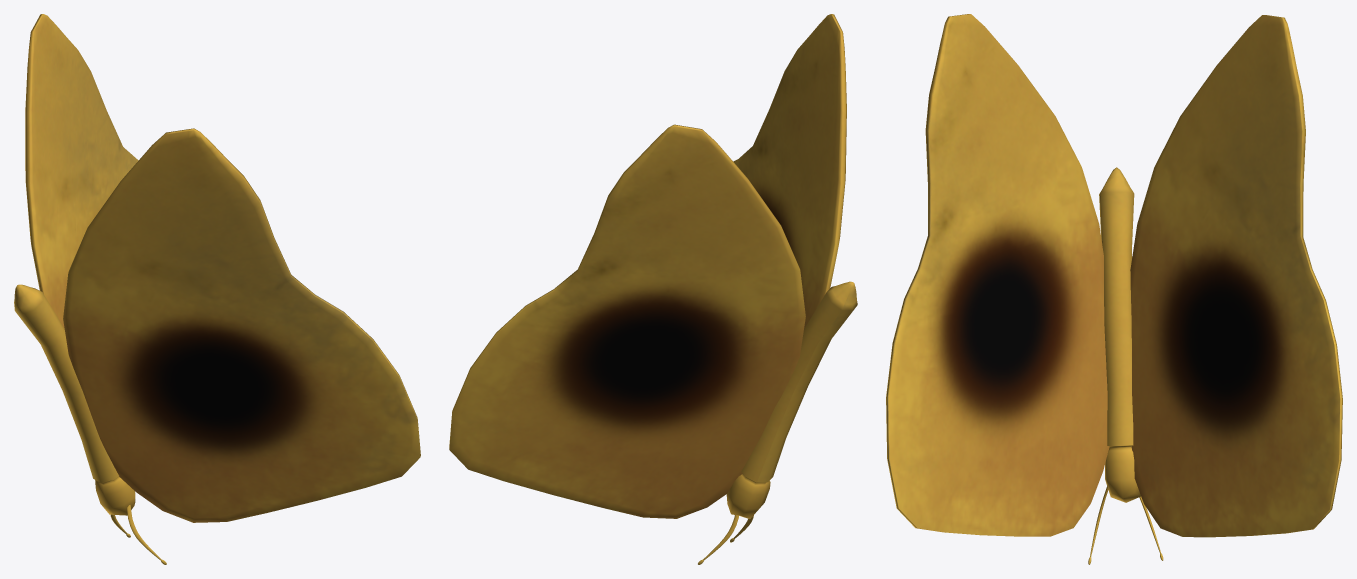
File: BeeMaskColor.fbx
3 views of the same model, side by side, from view 1: azimuth 30°, elevation 25°; view 2: azimuth 150°, elevation 25°; view 3: azimuth 270°, elevation 25° (orthographic). The views are drawn at different scales.
Parts seen in each view (by area): view 1: polySurface28; view 2: polySurface28; view 3: polySurface28.
Part boxes in pixels (bbox=[...]): polySurface28: bbox=[14, 14, 420, 564]; polySurface28: bbox=[449, 14, 857, 564]; polySurface28: bbox=[886, 14, 1342, 564].
Bounding box in the file's own units: 29.22 × 44.71 × 34.94.
